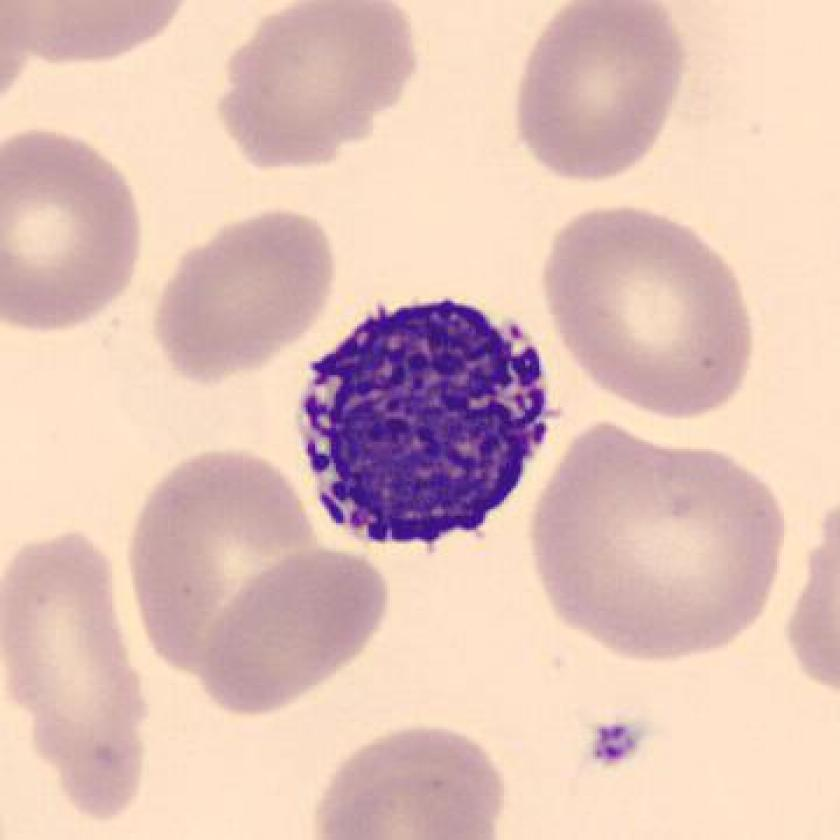basophil: (293, 295, 552, 549)
